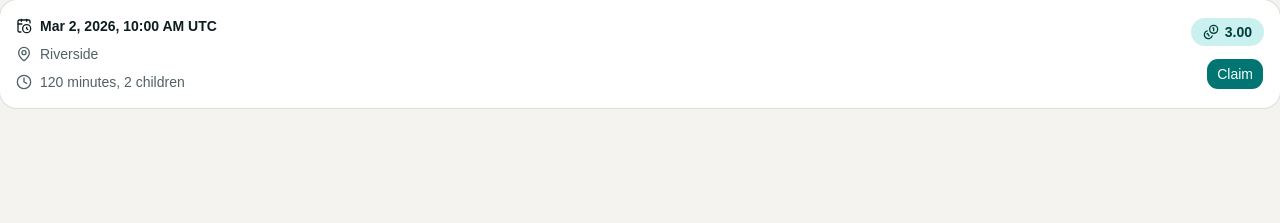
OpenRequestsPage › explains a rejected claim (422 claim_cutoff_passed)
What coordinates should you click on to do the following:
click the button with aria-label "claim the request in riverside"
I would click on:
 (1235, 74)
Its box is x1=1206 y1=58 x2=1264 y2=90.
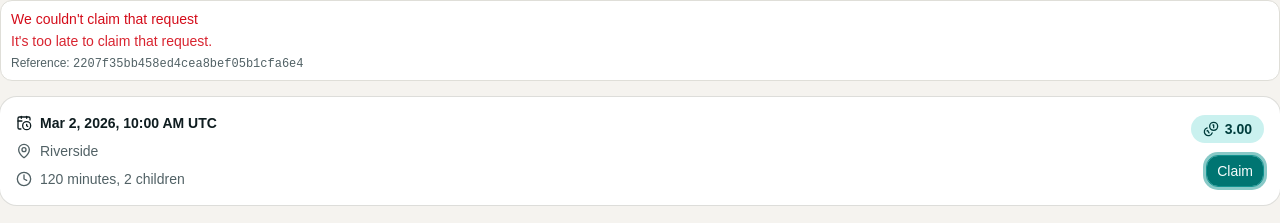
Result: the message shows "too late to claim" at x1=11 y1=33 x2=212 y2=49
